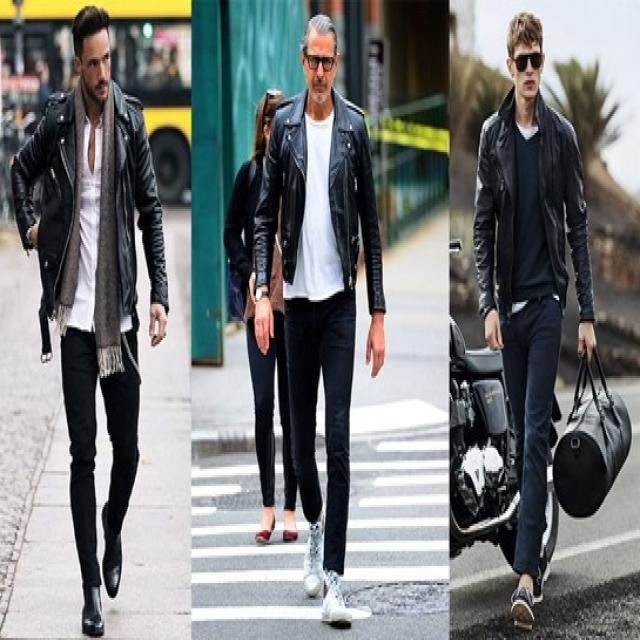Jacket: (7, 85, 170, 347), (469, 90, 599, 373), (255, 92, 388, 322)
